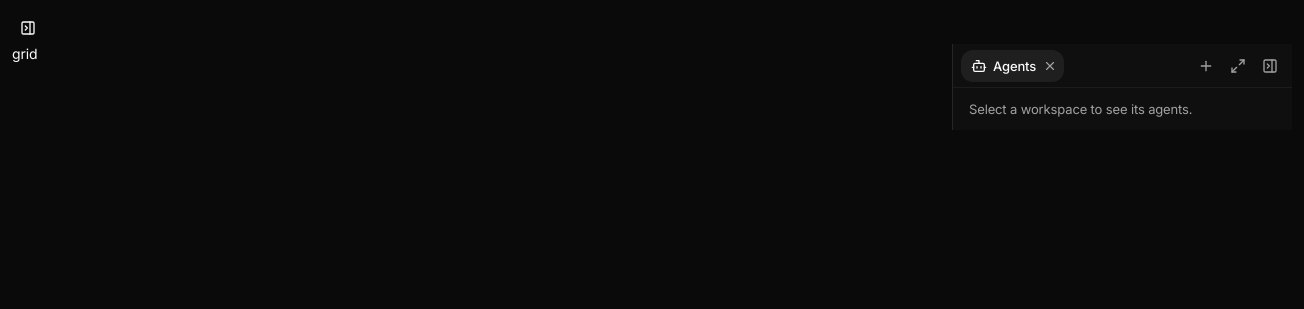
IdeSidePanel › collapses when the last tab closes and reopens with Agents
Click the button with test id "ide-side-panel-close-agents": click(1050, 66) [1040,56,1060,76]
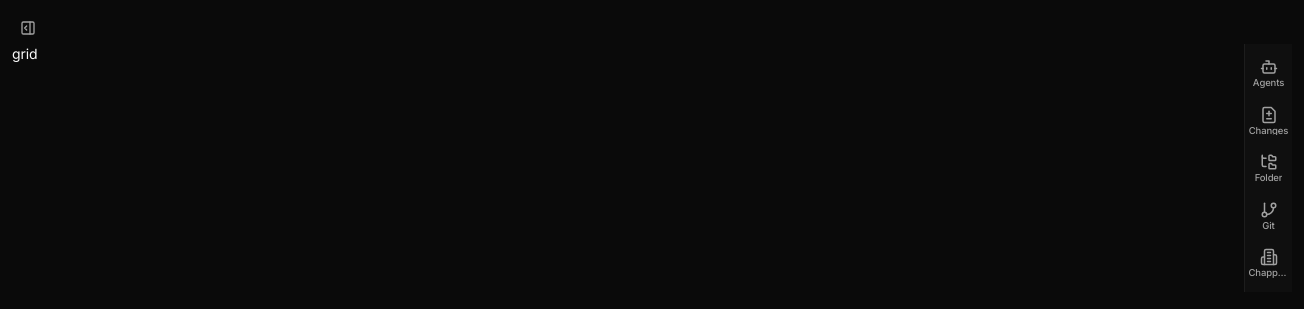
Expected: the element with test id "ide-side-panel" is gone
Click the button with test id "ide-side-panel-toggle": click(28, 28) [12,12,44,44]
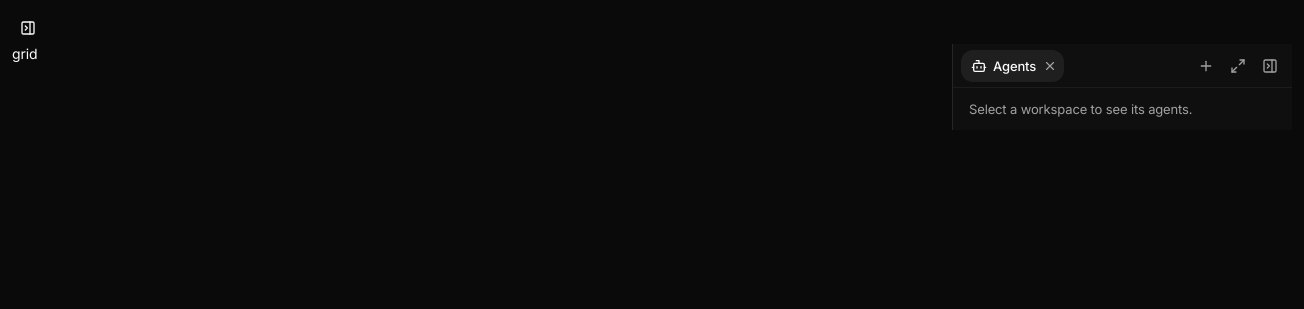
Expected: the tab with test id "ide-side-panel-tab-agents" is shown, [971,56,1036,74]
